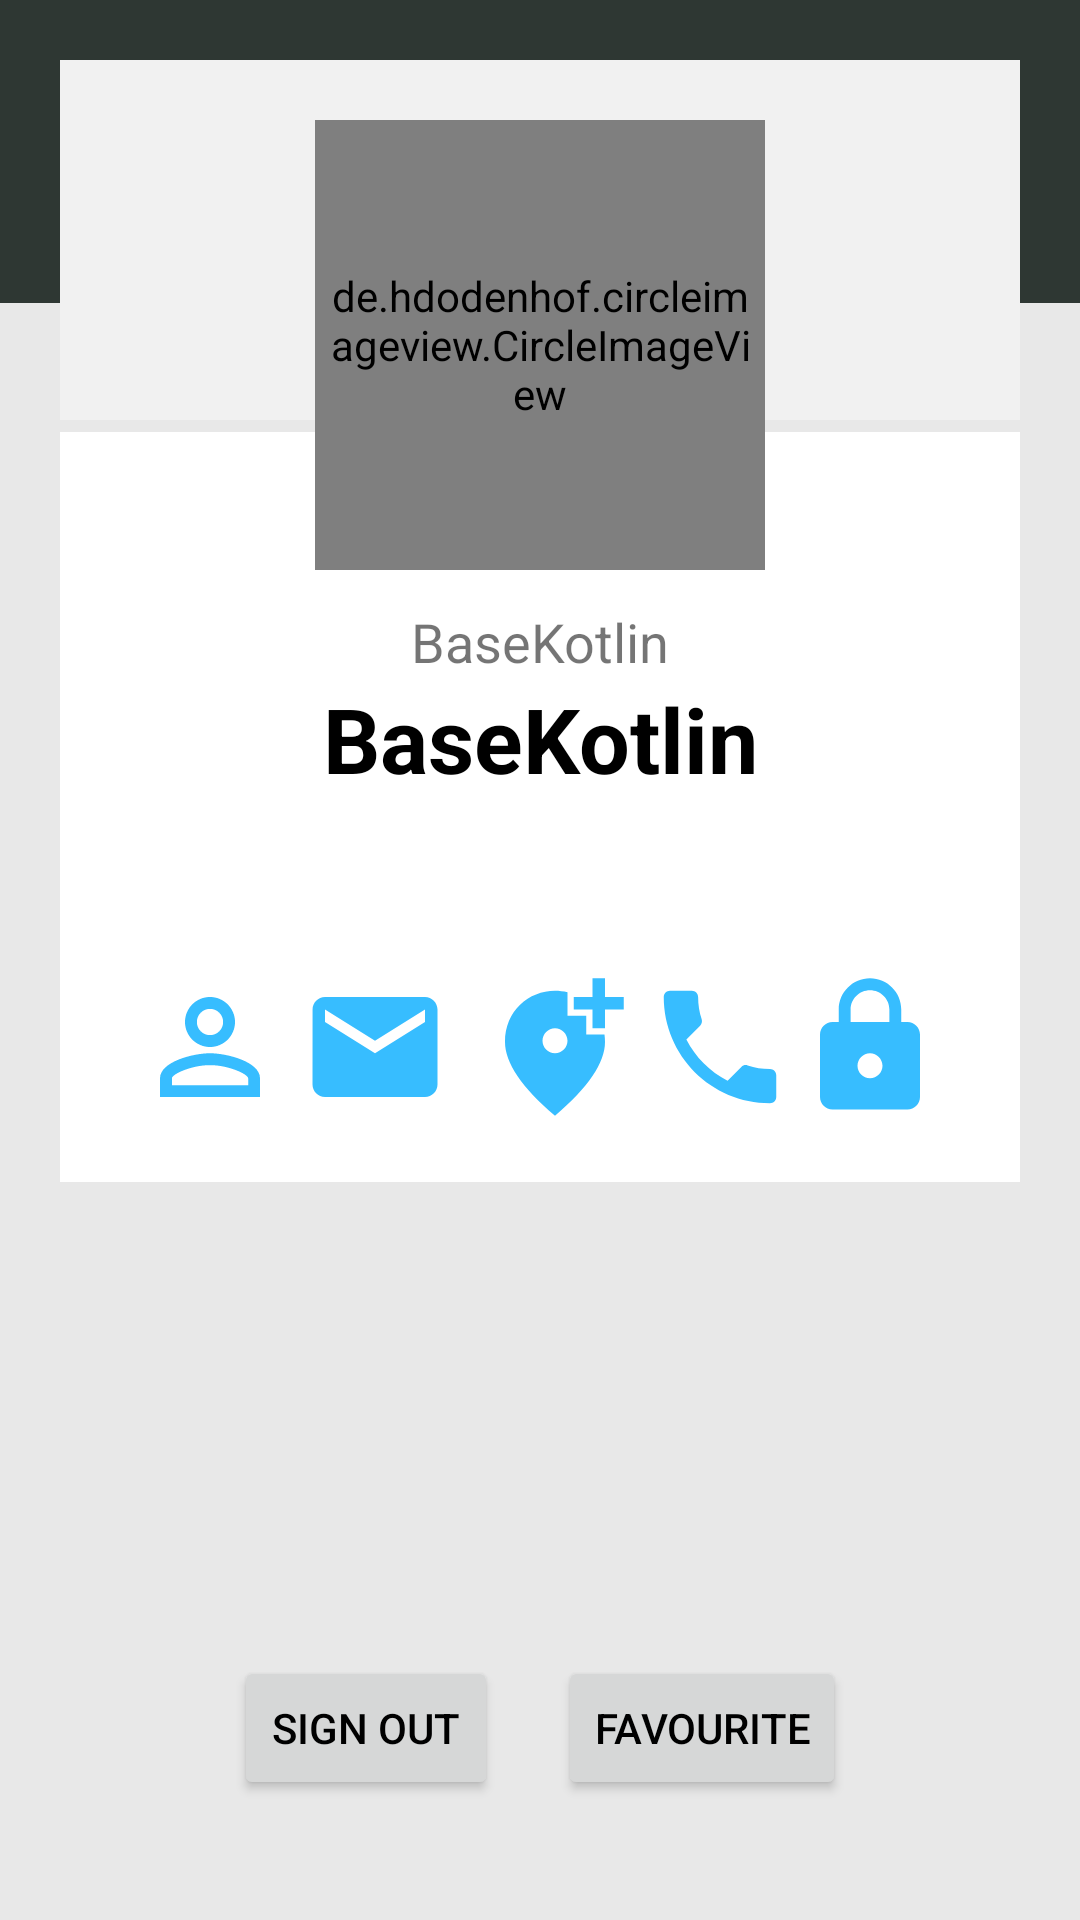

Where icons sit on this 1080 × 1920 app screen, as (x1, y1, x2, y2):
add location: (505, 978, 624, 1116)
email: (312, 997, 438, 1097)
local phone: (663, 990, 777, 1104)
lock: (820, 978, 920, 1110)
person: (160, 997, 260, 1097)
